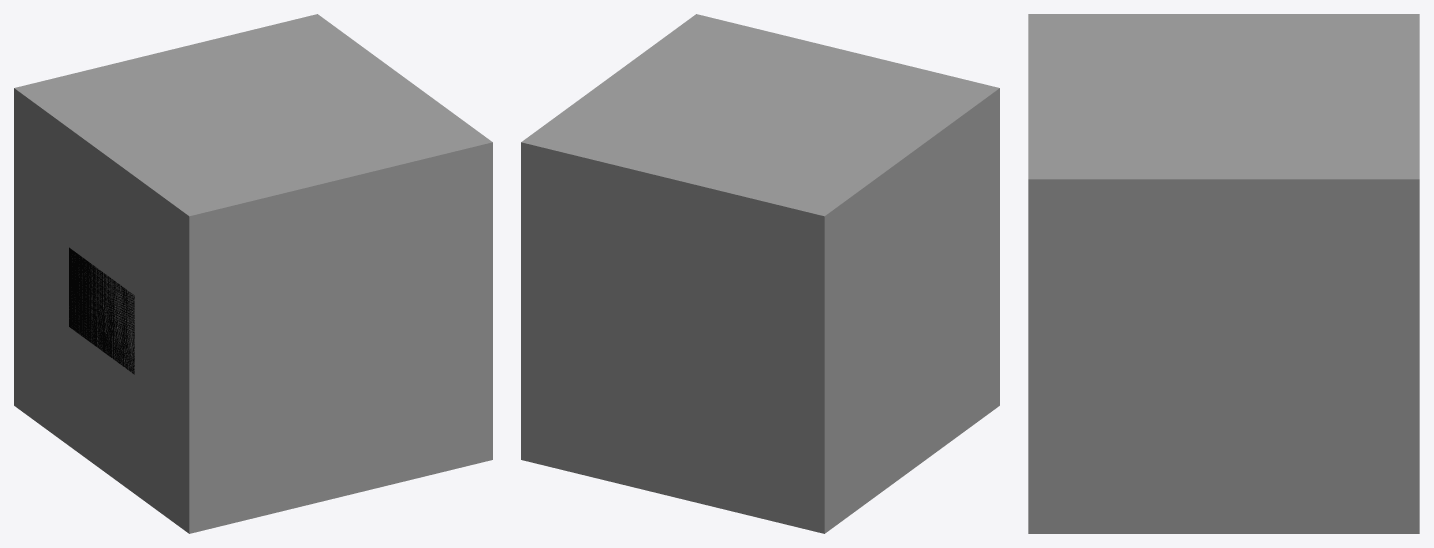
The model's file is thermalsensor.obj.
The picture shows the model from 3 angles, left to right: view 1: azimuth 30°, elevation 25°; view 2: azimuth 150°, elevation 25°; view 3: azimuth 270°, elevation 25°; orthographic projection. The views are drawn at different scales.
Visible parts, largest first — view 1: Minecraft_Block_Cube, Minecraft_2_Edge_Connectivity_Cube.002, main; view 2: Minecraft_Block_Cube, Minecraft_2_Edge_Connectivity_Cube.002; view 3: Minecraft_Block_Cube, Minecraft_2_Edge_Connectivity_Cube.002.
Part boxes in pixels (bbox=[...]): Minecraft_Block_Cube: bbox=[15, 14, 492, 533]; Minecraft_2_Edge_Connectivity_Cube.002: bbox=[14, 88, 252, 533]; main: bbox=[69, 247, 134, 374]; Minecraft_Block_Cube: bbox=[521, 14, 998, 533]; Minecraft_2_Edge_Connectivity_Cube.002: bbox=[760, 88, 999, 533]; Minecraft_Block_Cube: bbox=[1028, 14, 1419, 533]; Minecraft_2_Edge_Connectivity_Cube.002: bbox=[1029, 14, 1418, 96].
Size of the model in its own units: 1 by 1 by 1.
2 materials, 1 textured.
